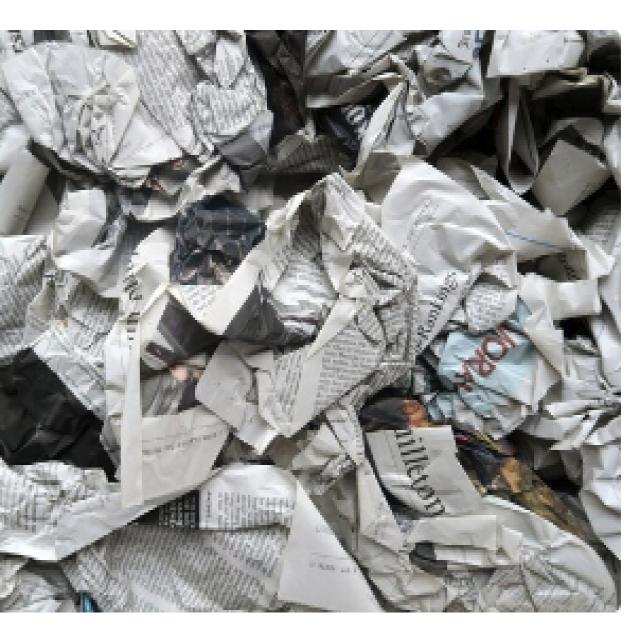Koran: (0, 28, 621, 610)
